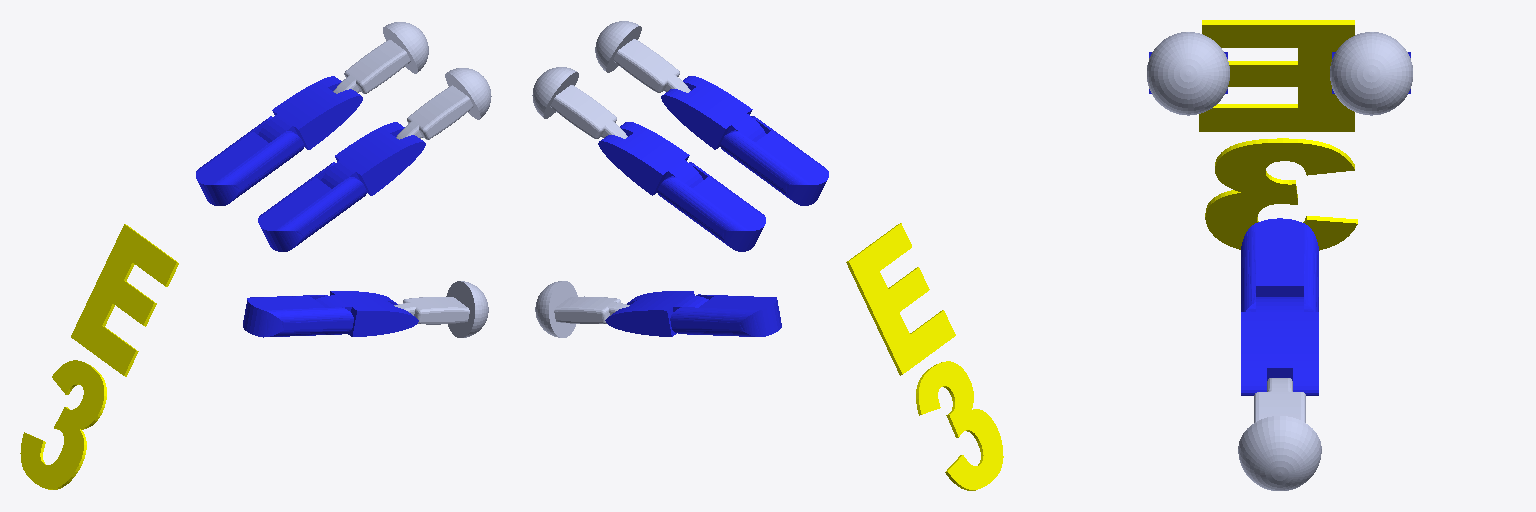
URDF robot description (HandAssembly6):
<?xml version="1.0" encoding="utf-8"?>
<!-- This URDF was automatically created by SolidWorks to URDF Exporter! Originally created by [author] ([email redacted]) 
     Commit Version: 1.6.0-4-g7f85cfe  Build Version: 1.6.7995.38578
     For more information, please see http://wiki.ros.org/sw_urdf_exporter -->
<robot
  name="HandAssembly6">
  <link
    name="base_link">
    <inertial>
      <origin
        xyz="-0.094976 -0.00010441 0.45198"
        rpy="0 0 0" />
      <mass
        value="223.78" />
      <inertia
        ixx="23.889"
        ixy="0.019211"
        ixz="-2.3797"
        iyy="24.261"
        iyz="0.044517"
        izz="9.898" />
    </inertial>
    <visual>
      <origin
        xyz="0 0 0"
        rpy="0 0 0" />
      <geometry>
        <mesh
          filename="package://HandAssembly6/meshes/base_link.STL" />
      </geometry>
      <material
        name="">
        <color
          rgba="0.18824 0.20392 1 1" />
      </material>
    </visual>
    <collision>
      <origin
        xyz="0 0 0"
        rpy="0 0 0" />
      <geometry>
        <mesh
          filename="package://HandAssembly6/meshes/base_link.STL" />
      </geometry>
    </collision>
  </link>
  <link
    name="finger_1">
    <inertial>
      <origin
        xyz="0.058211 3.7694E-08 8.7344E-08"
        rpy="0 0 0" />
      <mass
        value="2.6229" />
      <inertia
        ixx="0.0059915"
        ixy="2.2318E-08"
        ixz="1.352E-08"
        iyy="0.015359"
        iyz="-1.6951E-07"
        izz="0.018807" />
    </inertial>
    <visual>
      <origin
        xyz="0 0 0"
        rpy="0 0 0" />
      <geometry>
        <mesh
          filename="package://HandAssembly6/meshes/finger_1.STL" />
      </geometry>
      <material
        name="">
        <color
          rgba="0.18824 0.20392 1 1" />
      </material>
    </visual>
    <collision>
      <origin
        xyz="0 0 0"
        rpy="0 0 0" />
      <geometry>
        <mesh
          filename="package://HandAssembly6/meshes/finger_1.STL" />
      </geometry>
    </collision>
  </link>
  <joint
    name="fin1"
    type="revolute">
    <origin
      xyz="0.292117822710978 0.175 1.14406683612052"
      rpy="-3.14159265358979 -0.434081521732677 0" />
    <parent
      link="base_link" />
    <child
      link="finger_1" />
    <axis
      xyz="0 0 1" />
    <limit
      lower="0"
      upper="2"
      effort="0"
      velocity="0" />
  </joint>
  <link
    name="finger_1_1">
    <inertial>
      <origin
        xyz="0.10923 -1.0806E-07 1.3848E-07"
        rpy="0 0 0" />
      <mass
        value="2.3997" />
      <inertia
        ixx="0.0050193"
        ixy="-1.8058E-08"
        ixz="2.3784E-08"
        iyy="0.015712"
        iyz="1.6636E-09"
        izz="0.012658" />
    </inertial>
    <visual>
      <origin
        xyz="0 0 0"
        rpy="0 0 0" />
      <geometry>
        <mesh
          filename="package://HandAssembly6/meshes/finger_1_1.STL" />
      </geometry>
      <material
        name="">
        <color
          rgba="0.18824 0.20392 1 1" />
      </material>
    </visual>
    <collision>
      <origin
        xyz="0 0 0"
        rpy="0 0 0" />
      <geometry>
        <mesh
          filename="package://HandAssembly6/meshes/finger_1_1.STL" />
      </geometry>
    </collision>
  </link>
  <joint
    name="fin1_1"
    type="revolute">
    <origin
      xyz="0.179528059776071 0 0"
      rpy="-1.5707963267949 0 0" />
    <parent
      link="finger_1" />
    <child
      link="finger_1_1" />
    <axis
      xyz="-5.91557224570015E-05 0 -0.999999998211192" />
    <limit
      lower="0"
      upper="2"
      effort="0"
      velocity="0" />
  </joint>
  <link
    name="finger_1_1_1">
    <inertial>
      <origin
        xyz="0.18047 -4.3488E-08 4.2365E-08"
        rpy="0 0 0" />
      <mass
        value="1.9243" />
      <inertia
        ixx="0.0035222"
        ixy="1.5303E-08"
        ixz="2.346E-08"
        iyy="0.012219"
        iyz="-6.3148E-10"
        izz="0.011737" />
    </inertial>
    <visual>
      <origin
        xyz="0 0 0"
        rpy="0 0 0" />
      <geometry>
        <mesh
          filename="package://HandAssembly6/meshes/finger_1_1_1.STL" />
      </geometry>
      <material
        name="">
        <color
          rgba="0.79216 0.81961 0.93333 1" />
      </material>
    </visual>
    <collision>
      <origin
        xyz="0 0 0"
        rpy="0 0 0" />
      <geometry>
        <mesh
          filename="package://HandAssembly6/meshes/finger_1_1_1.STL" />
      </geometry>
    </collision>
  </link>
  <joint
    name="fin1_1_1"
    type="revolute">
    <origin
      xyz="0.235471940223928 0 0"
      rpy="0 0 0" />
    <parent
      link="finger_1_1" />
    <child
      link="finger_1_1_1" />
    <axis
      xyz="5.91557224571689E-05 0 0.999999998211192" />
    <limit
      lower="0"
      upper="2"
      effort="0"
      velocity="0" />
  </joint>
  <link
    name="finger_1_eef">
    <inertial>
      <origin
        xyz="-0.024535 4.2365E-08 4.3488E-08"
        rpy="0 0 0" />
      <mass
        value="1.9243" />
      <inertia
        ixx="0.0035222"
        ixy="2.346E-08"
        ixz="-1.5303E-08"
        iyy="0.011737"
        iyz="6.3148E-10"
        izz="0.012219" />
    </inertial>
    <visual>
      <origin
        xyz="0 0 0"
        rpy="0 0 0" />
      <geometry>
        <mesh
          filename="package://HandAssembly6/meshes/finger_1_eef.STL" />
      </geometry>
      <material
        name="">
        <color
          rgba="0.79216 0.81961 0.93333 1" />
      </material>
    </visual>
    <collision>
      <origin
        xyz="0 0 0"
        rpy="0 0 0" />
      <geometry>
        <mesh
          filename="package://HandAssembly6/meshes/finger_1_eef.STL" />
      </geometry>
    </collision>
  </link>
  <joint
    name="fin1_eef"
    type="fixed">
    <origin
      xyz="0.205 0 0"
      rpy="1.5707963267949 0 0" />
    <parent
      link="finger_1_1_1" />
    <child
      link="finger_1_eef" />
    <axis
      xyz="0 0 0" />
  </joint>
  <link
    name="finger_2">
    <inertial>
      <origin
        xyz="0.0582116120903943 1.1196454030582E-07 -3.91548026223987E-07"
        rpy="0 0 0" />
      <mass
        value="2.62290642499631" />
      <inertia
        ixx="0.00599168807900473"
        ixy="3.82927900034568E-08"
        ixz="-4.28218440578793E-08"
        iyy="0.0153587683117723"
        iyz="-1.2968428926512E-07"
        izz="0.0188064358562405" />
    </inertial>
    <visual>
      <origin
        xyz="0 0 0"
        rpy="0 0 0" />
      <geometry>
        <mesh
          filename="package://HandAssembly6/meshes/finger_2.STL" />
      </geometry>
      <material
        name="">
        <color
          rgba="0.188235294117647 0.203921568627451 1 1" />
      </material>
    </visual>
    <collision>
      <origin
        xyz="0 0 0"
        rpy="0 0 0" />
      <geometry>
        <mesh
          filename="package://HandAssembly6/meshes/finger_2.STL" />
      </geometry>
    </collision>
  </link>
  <joint
    name="fin2"
    type="revolute">
    <origin
      xyz="0.338191099465507 0 0.774632196937085"
      rpy="3.14159265358979 0.194237175479863 0" />
    <parent
      link="base_link" />
    <child
      link="finger_2" />
    <axis
      xyz="0 0 1" />
    <limit
      lower="0"
      upper="2"
      effort="0"
      velocity="0" />
  </joint>
  <link
    name="finger_2_1">
    <inertial>
      <origin
        xyz="0.109229805441415 8.50570720523081E-08 2.00951759232737E-07"
        rpy="0 0 0" />
      <mass
        value="2.39969323925603" />
      <inertia
        ixx="0.00501927998896574"
        ixy="-3.99391432398641E-08"
        ixz="-1.26910142059085E-09"
        iyy="0.0157115471317898"
        iyz="1.62489800577717E-09"
        izz="0.0126581971858757" />
    </inertial>
    <visual>
      <origin
        xyz="0 0 0"
        rpy="0 0 0" />
      <geometry>
        <mesh
          filename="package://HandAssembly6/meshes/finger_2_1.STL" />
      </geometry>
      <material
        name="">
        <color
          rgba="0.188235294117647 0.203921568627451 1 1" />
      </material>
    </visual>
    <collision>
      <origin
        xyz="0 0 0"
        rpy="0 0 0" />
      <geometry>
        <mesh
          filename="package://HandAssembly6/meshes/finger_2_1.STL" />
      </geometry>
    </collision>
  </link>
  <joint
    name="fin2_1"
    type="revolute">
    <origin
      xyz="0.17952805977607 0 0"
      rpy="-1.5707963267949 0 0" />
    <parent
      link="finger_2" />
    <child
      link="finger_2_1" />
    <axis
      xyz="0 0 -1" />
    <limit
      lower="0"
      upper="2"
      effort="0"
      velocity="0" />
  </joint>
  <link
    name="finger_2_1_1">
    <inertial>
      <origin
        xyz="0.18046559586156 3.01820902159911E-07 -9.74496705552497E-10"
        rpy="0 0 0" />
      <mass
        value="1.92424517665912" />
      <inertia
        ixx="0.00352219633863109"
        ixy="6.17228919618787E-09"
        ixz="6.36595524246414E-09"
        iyy="0.012218947408732"
        iyz="2.78510533320615E-10"
        izz="0.0117363268700237" />
    </inertial>
    <visual>
      <origin
        xyz="0 0 0"
        rpy="0 0 0" />
      <geometry>
        <mesh
          filename="package://HandAssembly6/meshes/finger_2_1_1.STL" />
      </geometry>
      <material
        name="">
        <color
          rgba="0.792156862745098 0.819607843137255 0.933333333333333 1" />
      </material>
    </visual>
    <collision>
      <origin
        xyz="0 0 0"
        rpy="0 0 0" />
      <geometry>
        <mesh
          filename="package://HandAssembly6/meshes/finger_2_1_1.STL" />
      </geometry>
    </collision>
  </link>
  <joint
    name="fin2_1_1"
    type="revolute">
    <origin
      xyz="0.235471940223929 0 0"
      rpy="0 0 0" />
    <parent
      link="finger_2_1" />
    <child
      link="finger_2_1_1" />
    <axis
      xyz="0 0 1" />
    <limit
      lower="0"
      upper="2"
      effort="0"
      velocity="0" />
  </joint>
  <link
    name="finger_2_eef">
    <inertial>
      <origin
        xyz="-0.0245344041384399 -9.74496816574799E-10 -3.01820901937866E-07"
        rpy="0 0 0" />
      <mass
        value="1.92424517665912" />
      <inertia
        ixx="0.00352219633863109"
        ixy="6.36595524170338E-09"
        ixz="-6.17228919255579E-09"
        iyy="0.0117363268700237"
        iyz="-2.78510533360611E-10"
        izz="0.012218947408732" />
    </inertial>
    <visual>
      <origin
        xyz="0 0 0"
        rpy="0 0 0" />
      <geometry>
        <mesh
          filename="package://HandAssembly6/meshes/finger_2_eef.STL" />
      </geometry>
      <material
        name="">
        <color
          rgba="0.792156862745098 0.819607843137255 0.933333333333333 1" />
      </material>
    </visual>
    <collision>
      <origin
        xyz="0 0 0"
        rpy="0 0 0" />
      <geometry>
        <mesh
          filename="package://HandAssembly6/meshes/finger_2_eef.STL" />
      </geometry>
    </collision>
  </link>
  <joint
    name="fin2_eef"
    type="fixed">
    <origin
      xyz="0.205 0 0"
      rpy="1.5707963267949 0 0" />
    <parent
      link="finger_2_1_1" />
    <child
      link="finger_2_eef" />
    <axis
      xyz="0 0 0" />
  </joint>
  <link
    name="finger_3">
    <inertial>
      <origin
        xyz="0.0582114002766054 3.76936419854701E-08 8.73444794269318E-08"
        rpy="0 0 0" />
      <mass
        value="2.62291217240701" />
      <inertia
        ixx="0.00599150167552188"
        ixy="2.23180712202809E-08"
        ixz="1.35200392914567E-08"
        iyy="0.0153590445392389"
        iyz="-1.69514000177054E-07"
        izz="0.0188065584655924" />
    </inertial>
    <visual>
      <origin
        xyz="0 0 0"
        rpy="0 0 0" />
      <geometry>
        <mesh
          filename="package://HandAssembly6/meshes/finger_3.STL" />
      </geometry>
      <material
        name="">
        <color
          rgba="0.188235294117647 0.203921568627451 1 1" />
      </material>
    </visual>
    <collision>
      <origin
        xyz="0 0 0"
        rpy="0 0 0" />
      <geometry>
        <mesh
          filename="package://HandAssembly6/meshes/finger_3.STL" />
      </geometry>
    </collision>
  </link>
  <joint
    name="fin3"
    type="revolute">
    <origin
      xyz="0.292117822710978 -0.175 1.14406683612052"
      rpy="3.14159265358979 -0.434081521732677 0" />
    <parent
      link="base_link" />
    <child
      link="finger_3" />
    <axis
      xyz="0 0 1" />
    <limit
      lower="0"
      upper="2"
      effort="0"
      velocity="0" />
  </joint>
  <link
    name="finger_3_1">
    <inertial>
      <origin
        xyz="0.109229982235747 -1.08060116854602E-07 1.38476775046747E-07"
        rpy="0 0 0" />
      <mass
        value="2.39969794559851" />
      <inertia
        ixx="0.00501929273463679"
        ixy="-1.80584907152675E-08"
        ixz="2.37836989137933E-08"
        iyy="0.0157116821542711"
        iyz="1.6635881570034E-09"
        izz="0.012658314678475" />
    </inertial>
    <visual>
      <origin
        xyz="0 0 0"
        rpy="0 0 0" />
      <geometry>
        <mesh
          filename="package://HandAssembly6/meshes/finger_3_1.STL" />
      </geometry>
      <material
        name="">
        <color
          rgba="0.188235294117647 0.203921568627451 1 1" />
      </material>
    </visual>
    <collision>
      <origin
        xyz="0 0 0"
        rpy="0 0 0" />
      <geometry>
        <mesh
          filename="package://HandAssembly6/meshes/finger_3_1.STL" />
      </geometry>
    </collision>
  </link>
  <joint
    name="fin3_1"
    type="revolute">
    <origin
      xyz="0.179528059776072 0 0"
      rpy="-1.5707963267949 0 0" />
    <parent
      link="finger_3" />
    <child
      link="finger_3_1" />
    <axis
      xyz="0 0 -1" />
    <limit
      lower="0"
      upper="2"
      effort="0"
      velocity="0" />
  </joint>
  <link
    name="finger_3_1_1">
    <inertial>
      <origin
        xyz="0.180465436095978 -4.34883247191209E-08 4.23646131508804E-08"
        rpy="0 0 0" />
      <mass
        value="1.92425574932129" />
      <inertia
        ixx="0.0035222146228016"
        ixy="1.5302543260971E-08"
        ixz="2.34602653389936E-08"
        iyy="0.0122191473111296"
        iyz="-6.31477479214729E-10"
        izz="0.0117365284602967" />
    </inertial>
    <visual>
      <origin
        xyz="0 0 0"
        rpy="0 0 0" />
      <geometry>
        <mesh
          filename="package://HandAssembly6/meshes/finger_3_1_1.STL" />
      </geometry>
      <material
        name="">
        <color
          rgba="0.792156862745098 0.819607843137255 0.933333333333333 1" />
      </material>
    </visual>
    <collision>
      <origin
        xyz="0 0 0"
        rpy="0 0 0" />
      <geometry>
        <mesh
          filename="package://HandAssembly6/meshes/finger_3_1_1.STL" />
      </geometry>
    </collision>
  </link>
  <joint
    name="fin3_1_1"
    type="revolute">
    <origin
      xyz="0.235471940223929 0 0"
      rpy="0 0 0" />
    <parent
      link="finger_3_1" />
    <child
      link="finger_3_1_1" />
    <axis
      xyz="0 0 -1" />
    <limit
      lower="0"
      upper="2"
      effort="0"
      velocity="0" />
  </joint>
  <link
    name="finger_3_eef">
    <inertial>
      <origin
        xyz="-0.024534563904022 4.23646131508804E-08 4.34883248301432E-08"
        rpy="0 0 0" />
      <mass
        value="1.92425574932129" />
      <inertia
        ixx="0.0035222146228016"
        ixy="2.34602653383423E-08"
        ixz="-1.53025432579352E-08"
        iyy="0.0117365284602967"
        iyz="6.31477479162416E-10"
        izz="0.0122191473111296" />
    </inertial>
    <visual>
      <origin
        xyz="0 0 0"
        rpy="0 0 0" />
      <geometry>
        <mesh
          filename="package://HandAssembly6/meshes/finger_3_eef.STL" />
      </geometry>
      <material
        name="">
        <color
          rgba="0.792156862745098 0.819607843137255 0.933333333333333 1" />
      </material>
    </visual>
    <collision>
      <origin
        xyz="0 0 0"
        rpy="0 0 0" />
      <geometry>
        <mesh
          filename="package://HandAssembly6/meshes/finger_3_eef.STL" />
      </geometry>
    </collision>
  </link>
  <joint
    name="fin3_eef"
    type="fixed">
    <origin
      xyz="0.205 0 0"
      rpy="1.5707963267949 0 0" />
    <parent
      link="finger_3_1_1" />
    <child
      link="finger_3_eef" />
    <axis
      xyz="0 0 0" />
  </joint>
  <link
    name="e3">
    <inertial>
      <origin
        xyz="-0.21779 0.0016783 0.79089"
        rpy="0 0 0" />
      <mass
        value="1.3922" />
      <inertia
        ixx="0.02181"
        ixy="-9.7186E-05"
        ixz="-0.0073065"
        iyy="0.017106"
        iyz="-0.00017247"
        izz="0.012962" />
    </inertial>
    <visual>
      <origin
        xyz="0 0 0"
        rpy="0 0 0" />
      <geometry>
        <mesh
          filename="package://HandAssembly6/meshes/e3.STL" />
      </geometry>
      <material
        name="">
        <color
          rgba="1 1 0 1" />
      </material>
    </visual>
    <collision>
      <origin
        xyz="0 0 0"
        rpy="0 0 0" />
      <geometry>
        <mesh
          filename="package://HandAssembly6/meshes/e3.STL" />
      </geometry>
    </collision>
  </link>
  <joint
    name="e_3"
    type="fixed">
    <origin
      xyz="0 0 0"
      rpy="0 0 0" />
    <parent
      link="base_link" />
    <child
      link="e3" />
    <axis
      xyz="0 0 0" />
  </joint>
</robot>

--- Render facts (derived) ---
3 views of the same robot in one strip: view 1: azimuth 30°, elevation 25°; view 2: azimuth 150°, elevation 25°; view 3: azimuth 270°, elevation 25° (orthographic).
Model HandAssembly6 with 14 links and 13 joints (9 revolute, 4 fixed), rooted at base_link, posed all joints at 0.
Visible links, largest first — view 1: e3, finger_1, finger_3, finger_3_1, finger_1_1, finger_2, finger_1_1_1, finger_3_1_1, finger_2_1_1, finger_2_1; view 2: e3, finger_3, finger_1, finger_3_1, finger_1_1, finger_2, finger_1_1_1, finger_3_1_1, finger_2_1_1, finger_2_1; view 3: e3, finger_2_1, finger_2, finger_2_1_1, finger_1_1_1, finger_3_1_1, finger_2_eef, finger_3_eef.
Link boxes in pixels (x1,y1,x2,y2): e3: (20,224,178,489); finger_1: (196,116,303,205); finger_3: (258,162,366,251); finger_3_1: (321,122,425,195); finger_1_1: (258,76,362,149); finger_2: (243,295,353,337); finger_1_1_1: (333,22,428,93); finger_3_1_1: (396,68,491,139); finger_2_1_1: (394,281,488,337); finger_2_1: (316,291,418,336); e3: (846,223,1003,490); finger_3: (720,116,828,205); finger_1: (657,162,765,251); finger_3_1: (661,76,765,149); finger_1_1: (598,122,702,195); finger_2: (670,294,781,336); finger_1_1_1: (532,67,627,138); finger_3_1_1: (595,21,690,92); finger_2_1_1: (535,281,629,337); finger_2_1: (605,291,708,336); e3: (1199,20,1357,250); finger_2_1: (1241,297,1318,395); finger_2: (1241,218,1318,311); finger_2_1_1: (1238,378,1321,490); finger_1_1_1: (1330,32,1412,115); finger_3_1_1: (1147,32,1229,115); finger_2_eef: (1239,383,1320,490); finger_3_eef: (1149,44,1227,112).
Size in the robot's own frame: 1.45 by 0.5096 by 1.05 metres.
13 mesh visuals loaded from 14 distinct referenced files (13 binary STL); not drawn: 1 (reference not matched to a file when rendering).